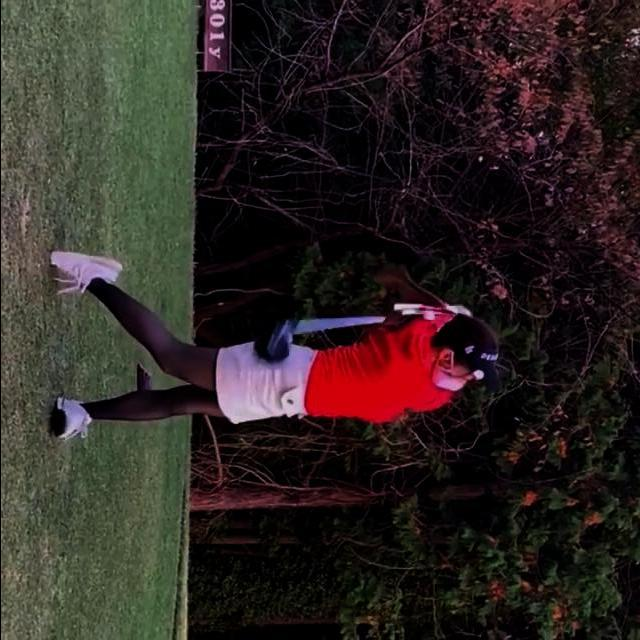golf club-handle: (253, 315, 387, 363)
golf club-head: (253, 315, 299, 362)
